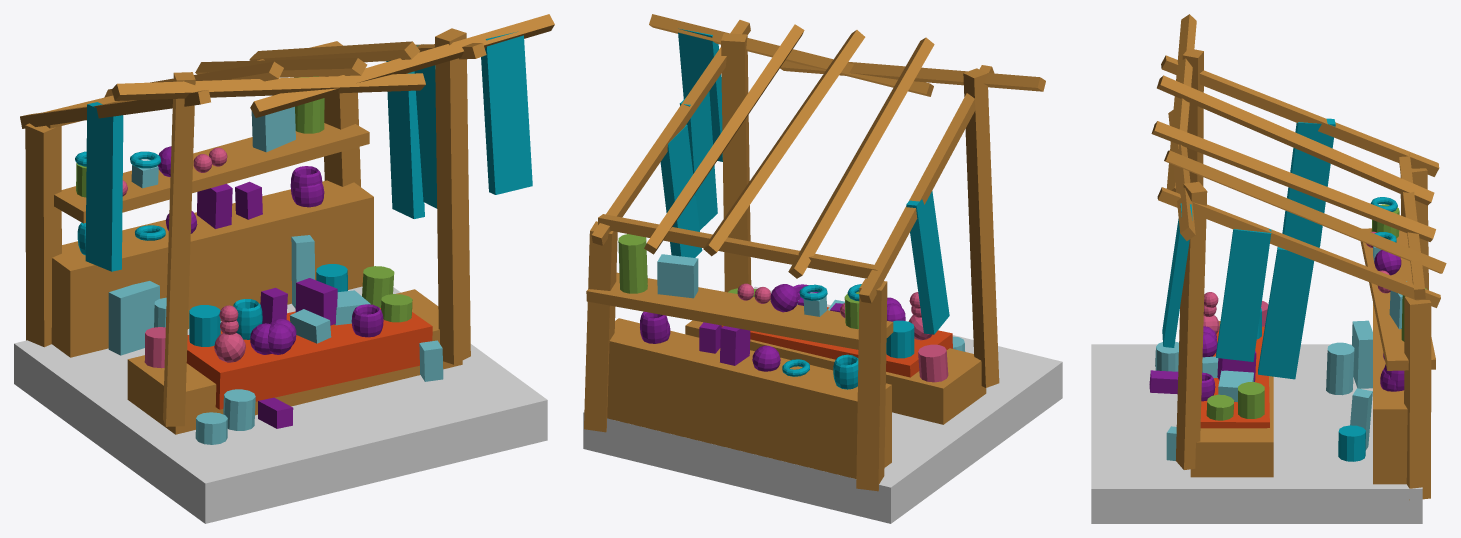
The picture shows the model from 3 angles, left to right: view 1: azimuth 30°, elevation 25°; view 2: azimuth 150°, elevation 25°; view 3: azimuth 270°, elevation 25°; orthographic projection. The views are drawn at different scales.
Parts seen in each view (by area): view 1: node_MeshObject-63370240-PolyPaper21; view 2: node_MeshObject-63370240-PolyPaper21; view 3: node_MeshObject-63370240-PolyPaper21.
Boxes of the visible parts, bbox=[...] form: node_MeshObject-63370240-PolyPaper21: bbox=[14, 14, 554, 523]; node_MeshObject-63370240-PolyPaper21: bbox=[583, 14, 1062, 523]; node_MeshObject-63370240-PolyPaper21: bbox=[1091, 14, 1446, 523].
Bounding box in the file's own units: 0.7885 × 0.7032 × 0.6434.
